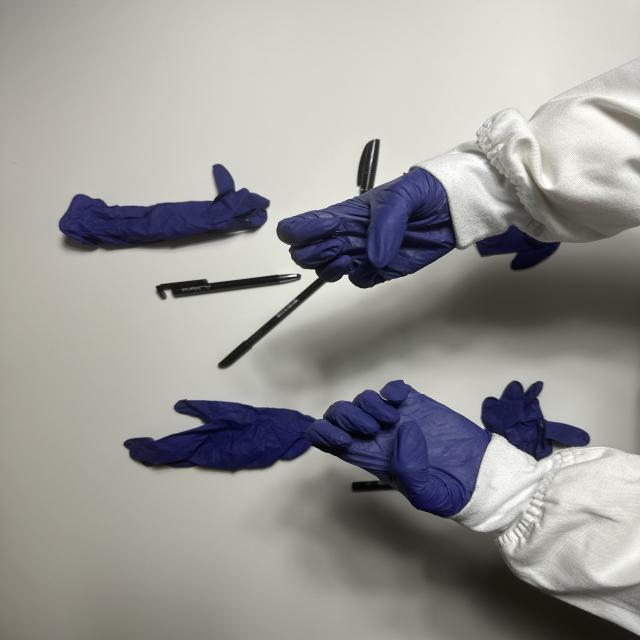gloves_contaminated: (306, 380, 490, 517), (278, 168, 456, 288)
